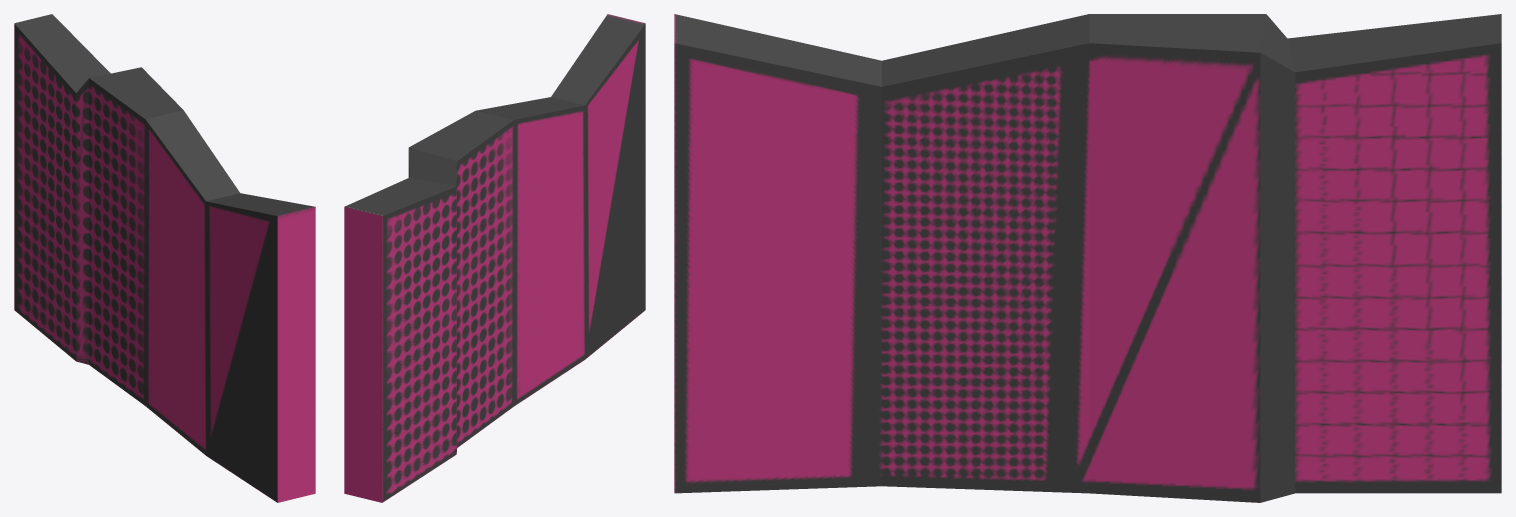
File: Wall2.fbx
3 views of the same model, side by side, from view 1: azimuth 30°, elevation 25°; view 2: azimuth 150°, elevation 25°; view 3: azimuth 270°, elevation 25° (orthographic). The views are drawn at different scales.
Visible parts, largest first — view 1: wall2-lp; view 2: wall2-lp; view 3: wall2-lp.
Part boxes in pixels (<box>): wall2-lp: <box>14,14,315,502</box>; wall2-lp: <box>344,14,645,502</box>; wall2-lp: <box>674,14,1501,502</box>.
Bounding box in the file's own units: 44.04 × 213 × 354.
1 material, 1 textured.
